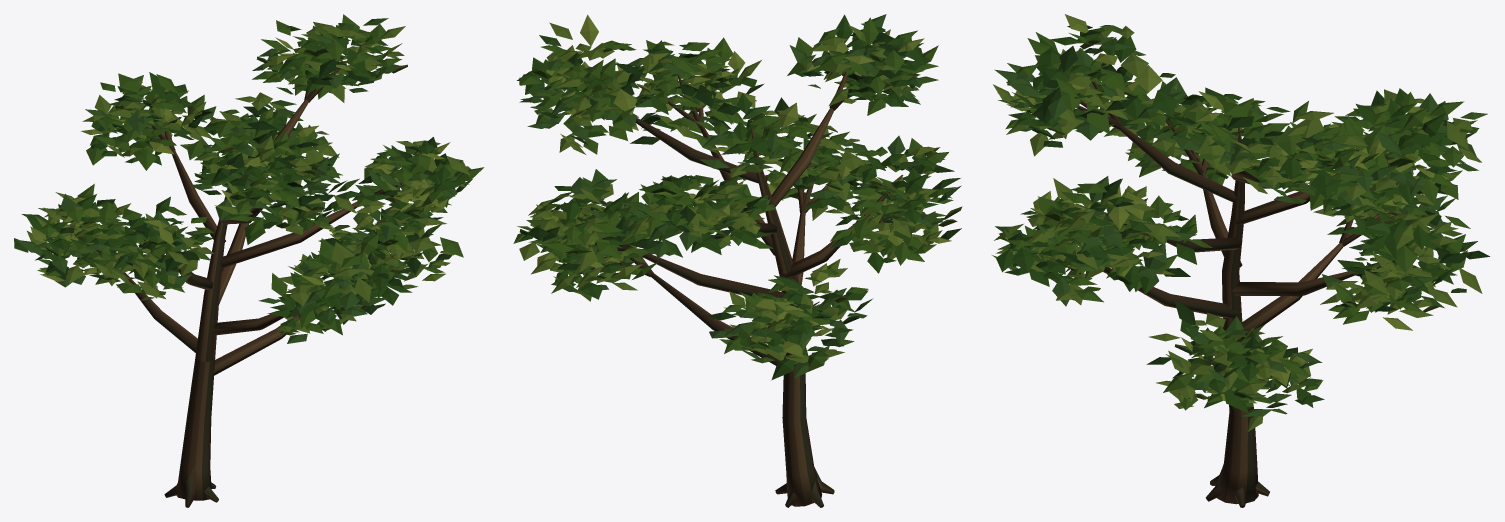
File: Beech_Windswept_01.fbx
The picture shows the model from 3 angles, left to right: view 1: azimuth 30°, elevation 25°; view 2: azimuth 150°, elevation 25°; view 3: azimuth 270°, elevation 25°; orthographic projection. The views are drawn at different scales.
Visible parts, largest first — view 1: Beech_Windswept_01_LOD0.001; view 2: Beech_Windswept_01_LOD0.001; view 3: Beech_Windswept_01_LOD0.001.
Boxes of the visible parts, x1,y1,x2,y2 form: Beech_Windswept_01_LOD0.001: [14, 14, 484, 507]; Beech_Windswept_01_LOD0.001: [513, 14, 962, 507]; Beech_Windswept_01_LOD0.001: [992, 14, 1489, 507].
Size of what is drawn, in the model's own units: 9.99 by 10.67 by 9.99.
